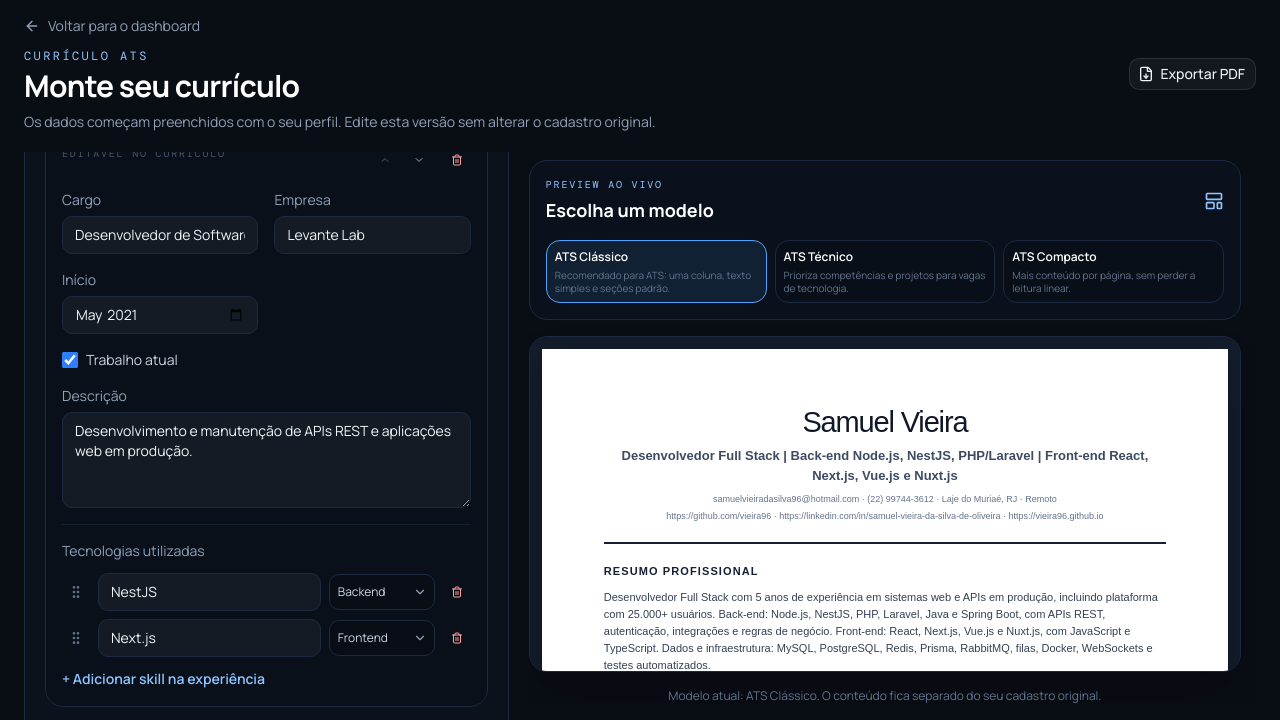
Test case: ResumeEditor › hides the end date for current experiences
(page scrolled)
What coordinates should you click on to do the following:
click the checkbox labelled "Trabalho atual"
I would click on:
 (70, 360)
Its box is x1=62 y1=352 x2=78 y2=368.
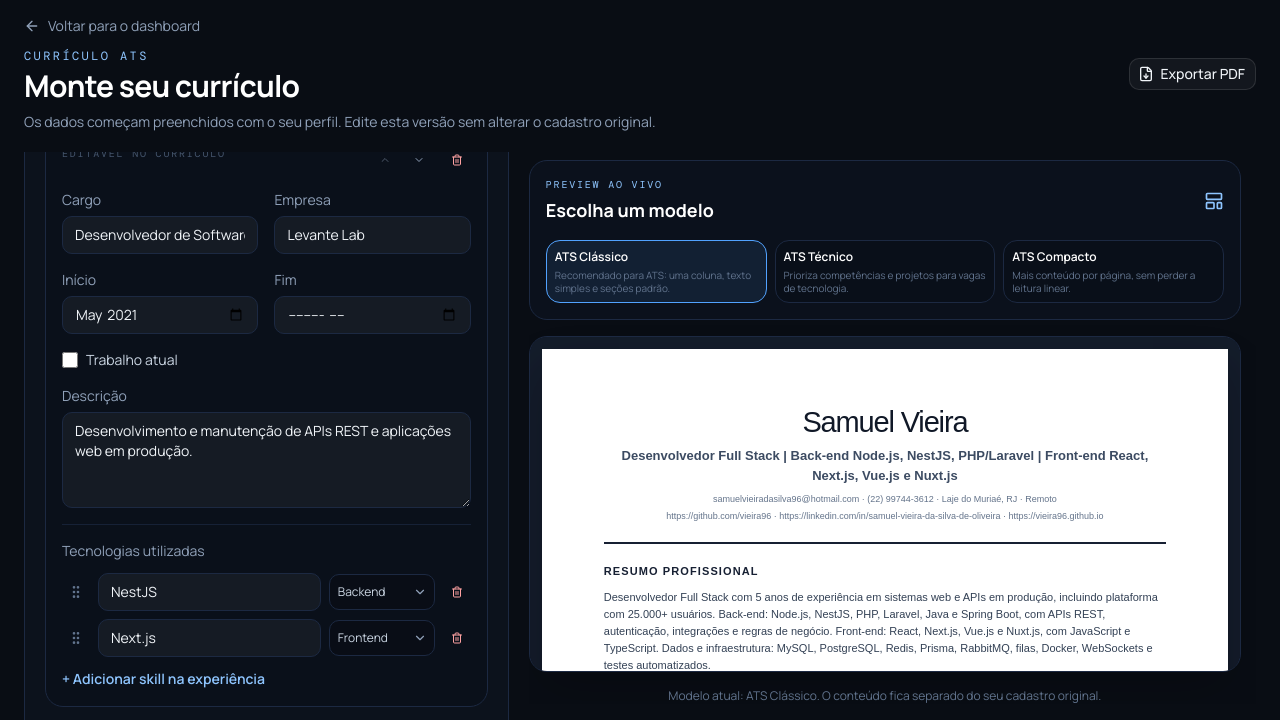
Expected: the checkbox labelled "Trabalho atual" is not checked, x1=62 y1=352 x2=78 y2=368
Expected: the number of fields labelled "Fim" is 3
